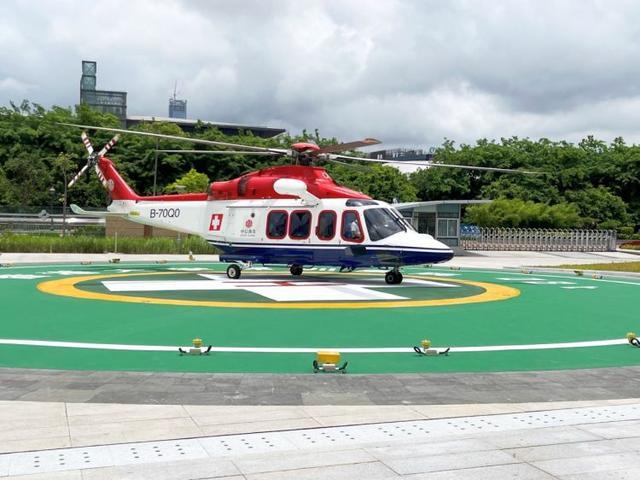H: (223, 281, 347, 289)
